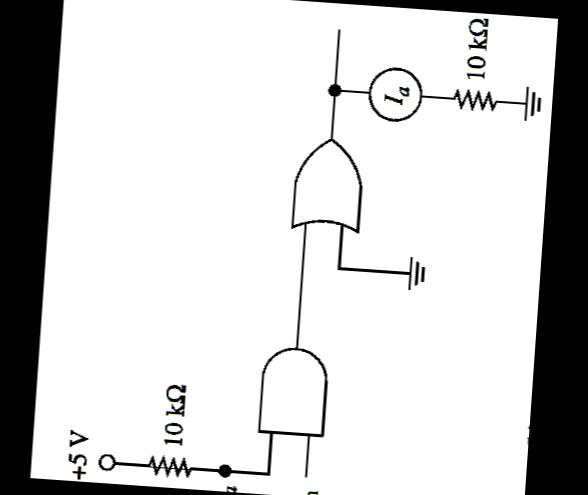and: (248, 334, 338, 445)
or: (282, 126, 373, 240)
